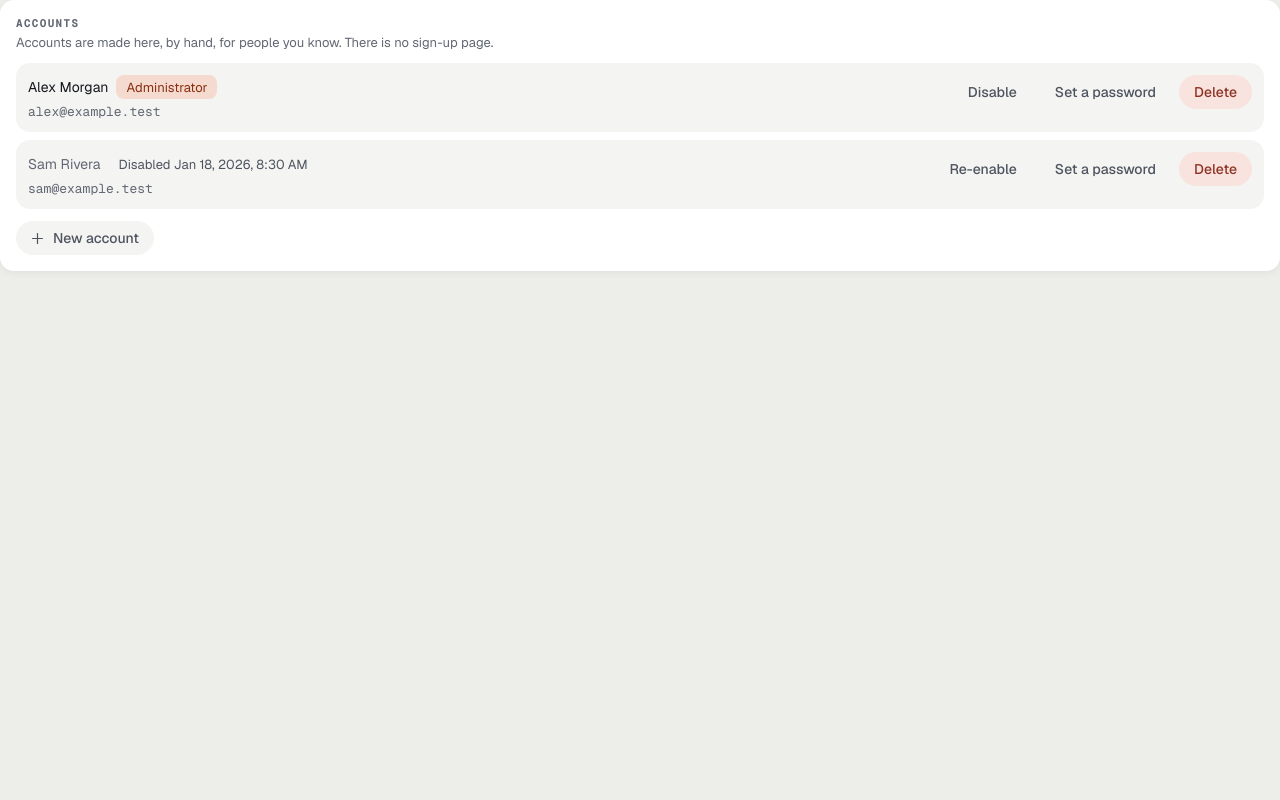
setting a password for somebody who is locked out (UI-37) › says every device will be signed out before the button is pressed
Click the button with aria-label "set a password for alex". click: (1105, 92)
box: [1040, 75, 1171, 109]
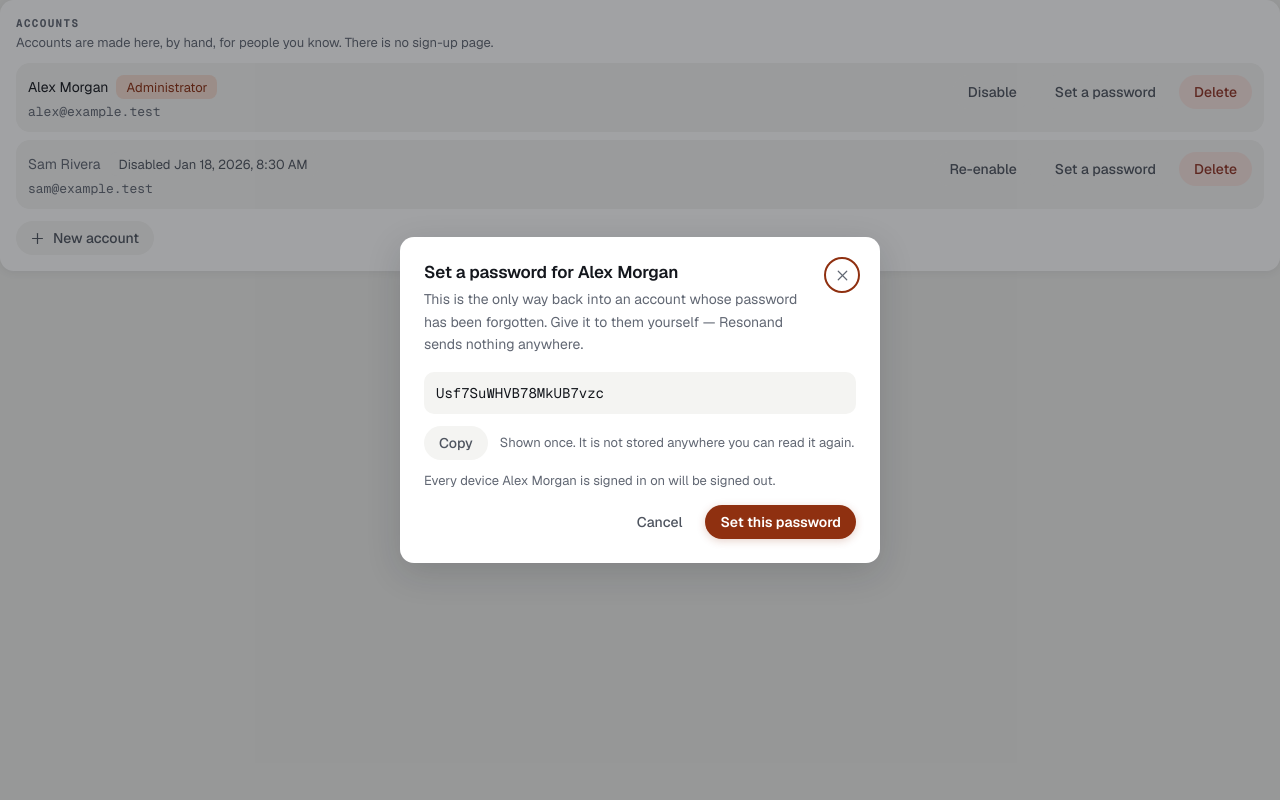
Now the text "Every device Alex Morgan is signed in on will be signed out." is shown, box [424, 472, 776, 489]
